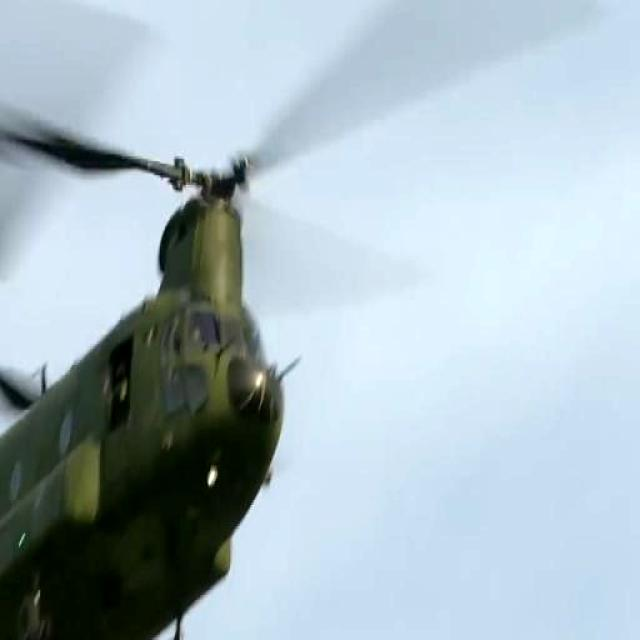drone: (0, 0, 310, 640)
